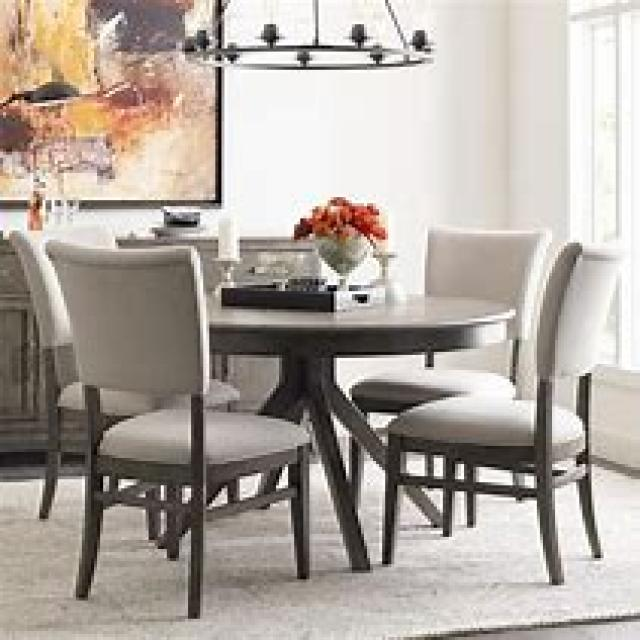chair: (42, 237, 312, 616), (379, 240, 625, 582)
table: (185, 285, 516, 570)
